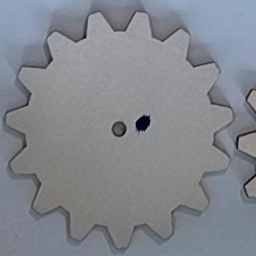Points: (134, 112, 153, 134)
